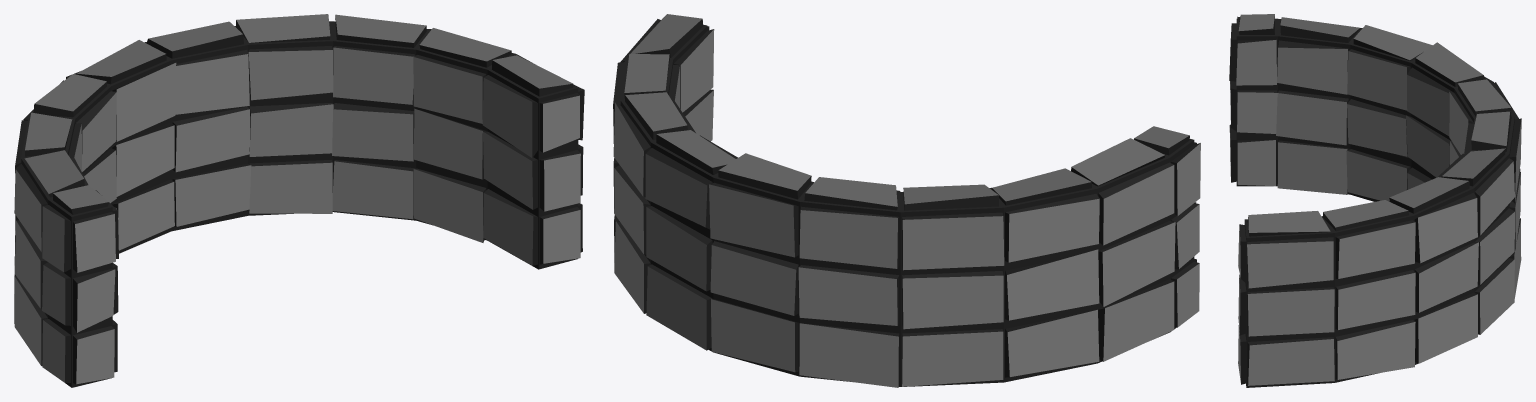
File: Wall.fbx
3 views of the same model, side by side, from view 1: azimuth 30°, elevation 25°; view 2: azimuth 150°, elevation 25°; view 3: azimuth 270°, elevation 25° (orthographic). The views are drawn at different scales.
Visible parts, largest first — view 1: Wall; view 2: Wall; view 3: Wall.
Boxes of the visible parts, bbox=[...] form: Wall: bbox=[14, 14, 584, 387]; Wall: bbox=[613, 14, 1200, 387]; Wall: bbox=[1229, 14, 1521, 387].
Size of the model in its own units: 1288 by 426 by 707.
